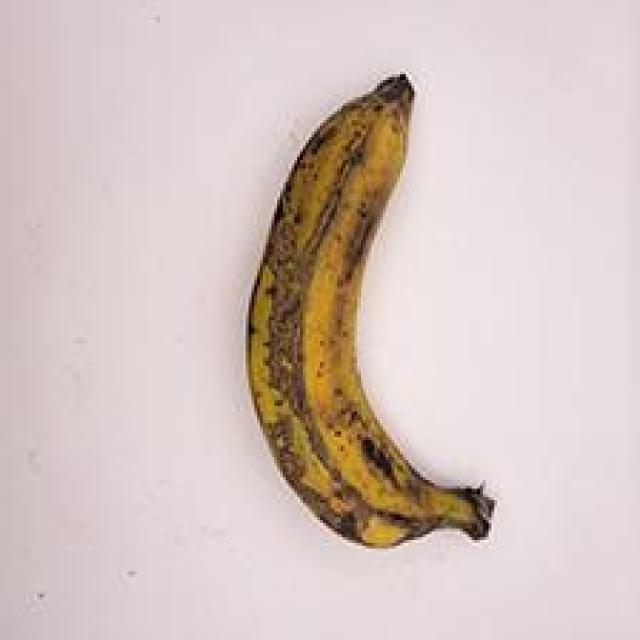Overripe: (201, 44, 540, 570)
